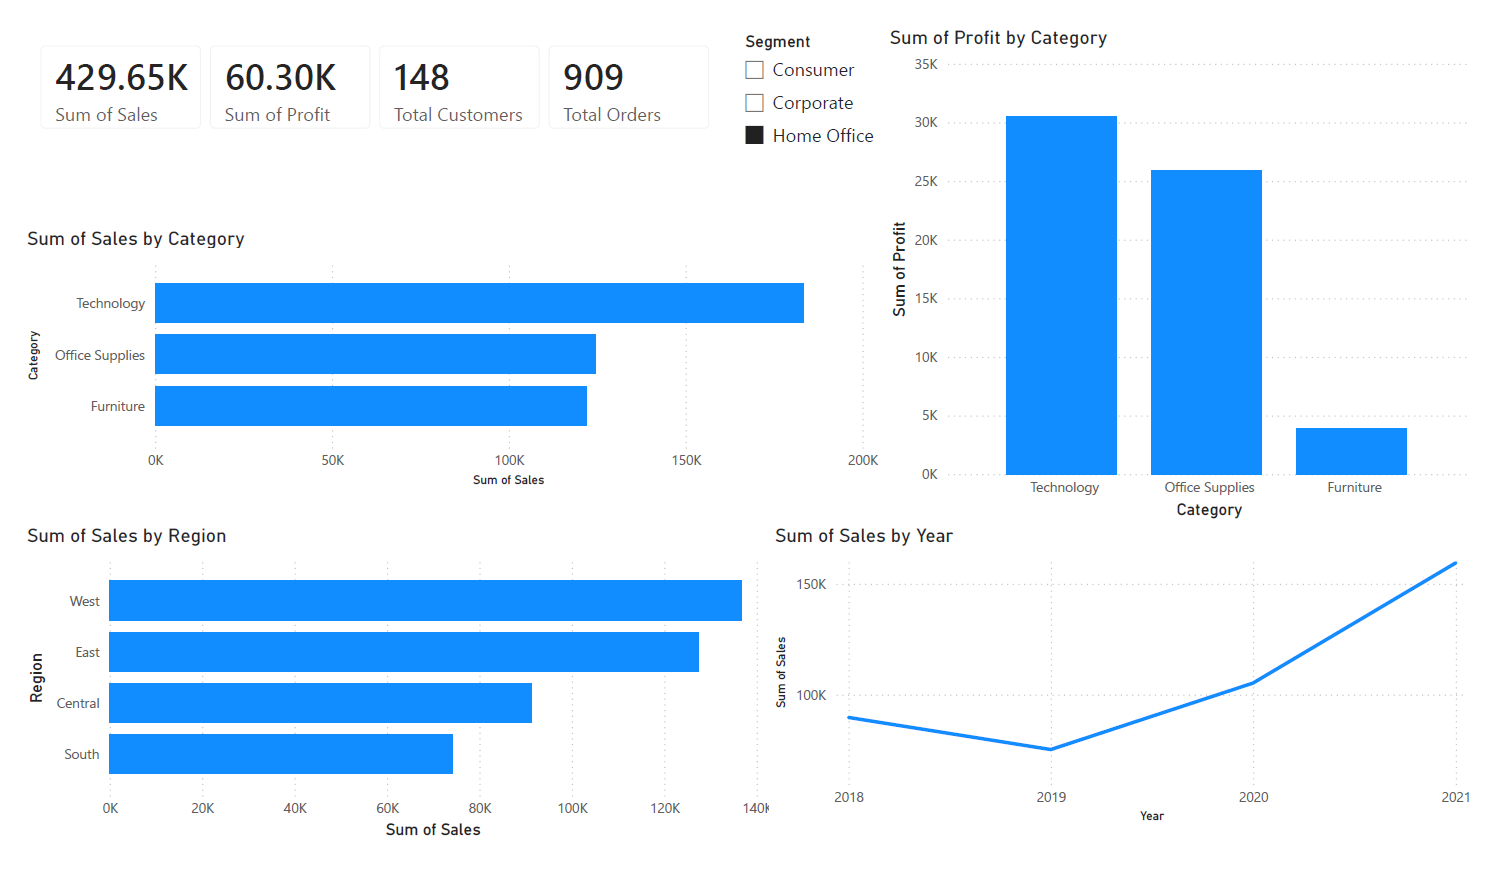

Layout of this report page (visuals, bound fields, positions):
{"tool":"powerbi","page":{"name":"Page 1","canvas":[1280,720],"ordinal":0},"visuals":[{"type":"cardVisual","fields":{"Data":["Sum(cleaned_superstore.Sales)","Sum(cleaned_superstore.Profit)","Measure Table.Total Customers","Measure Table.Total Orders"]},"box":[0,0,623.8,107.2],"z":0},{"type":"clusteredBarChart","fields":{"Category":["cleaned_superstore.Category"],"Y":["Sum(cleaned_superstore.Sales)"]},"box":[0,176.2,758.8,233.8],"z":1000},{"type":"clusteredColumnChart","fields":{"Category":["cleaned_superstore.Category"],"Y":["Sum(cleaned_superstore.Profit)"]},"box":[758.8,0,521.2,437.5],"z":2000},{"type":"clusteredBarChart","fields":{"Category":["cleaned_superstore.Region"],"Y":["Sum(cleaned_superstore.Sales)"]},"box":[0,437.5,666.2,282.5],"z":3000},{"type":"lineChart","fields":{"Category":["cleaned_superstore.Order Date.Variation.Date Hierarchy.Year","cleaned_superstore.Order Date.Variation.Date Hierarchy.Quarter","cleaned_superstore.Order Date.Variation.Date Hierarchy.Month","cleaned_superstore.Order Date.Variation.Date Hierarchy.Day"],"Y":["Sum(cleaned_superstore.Sales)"]},"box":[657.5,437.5,622.5,268.8],"z":4000},{"type":"slicer","fields":{"Values":["cleaned_superstore.Segment"]},"box":[623.8,0,135,145],"z":4001}]}

Visuals, with their boxes on the page's 1280x720 design canvas (x1, y1, x2, y2). These are canvas units, not pixel positions in the 1499x870 screenshot, which may show the page scaled, cropped or inside an application window:
cardVisual - Sum(cleaned_superstore.Sales) x Sum(cleaned_superstore.Profit): rect(0, 0, 624, 107)
clusteredBarChart - cleaned_superstore.Category x Sum(cleaned_superstore.Sales): rect(0, 176, 759, 410)
clusteredColumnChart - cleaned_superstore.Category x Sum(cleaned_superstore.Profit): rect(759, 0, 1280, 438)
clusteredBarChart - cleaned_superstore.Region x Sum(cleaned_superstore.Sales): rect(0, 438, 666, 720)
lineChart - cleaned_superstore.Order Date.Variation.Date Hierarchy.Year x cleaned_superstore.Order Date.Variation.Date Hierarchy.Quarter: rect(658, 438, 1280, 706)
slicer - cleaned_superstore.Segment: rect(624, 0, 759, 145)
